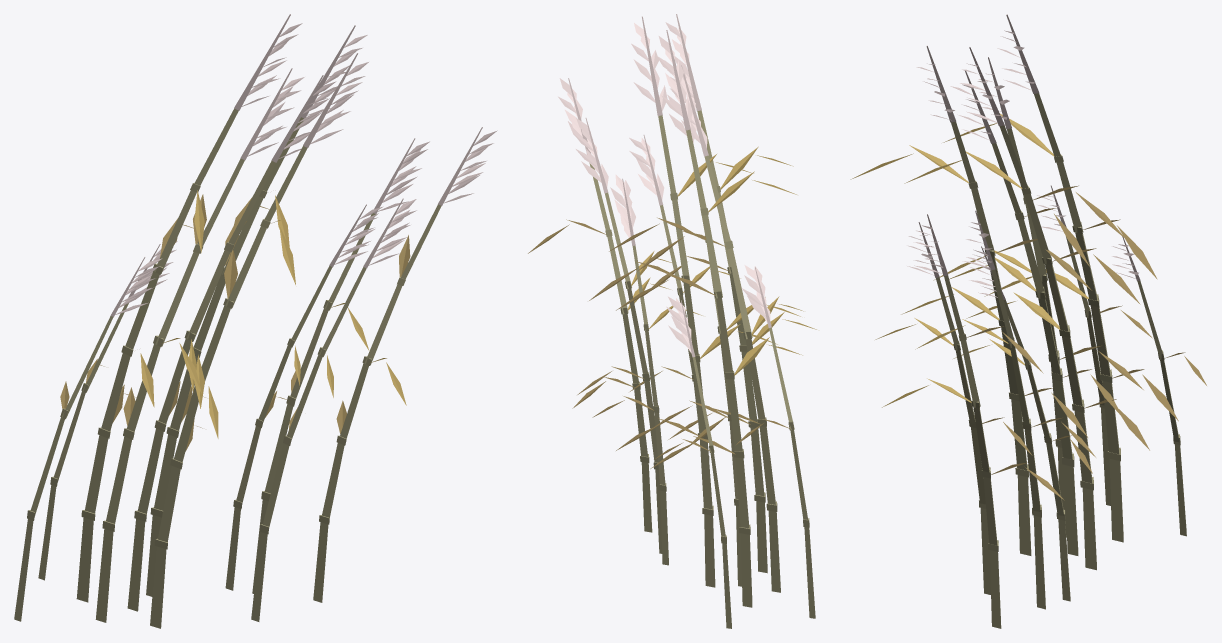
The model's file is shui.luweidang__autumn.glb.
The picture shows the model from 3 angles, left to right: view 1: azimuth 30°, elevation 25°; view 2: azimuth 150°, elevation 25°; view 3: azimuth 270°, elevation 25°; orthographic projection. The views are drawn at different scales.
Parts seen in each view (by area): view 1: shui.luweidang__autumn; view 2: shui.luweidang__autumn; view 3: shui.luweidang__autumn.
Part boxes in pixels (<box>): shui.luweidang__autumn: <box>14,14,497,628</box>; shui.luweidang__autumn: <box>528,14,816,628</box>; shui.luweidang__autumn: <box>850,14,1206,628</box>.
Bounding box in the file's own units: 3.04 × 4.39 × 2.37.
